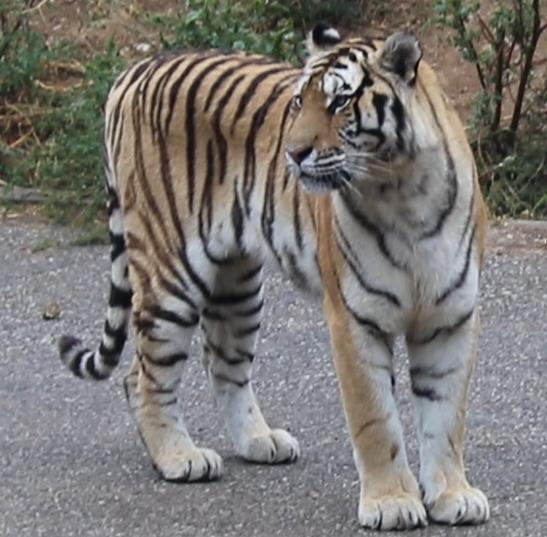tiger: (59, 24, 489, 530), (384, 133, 387, 140)
